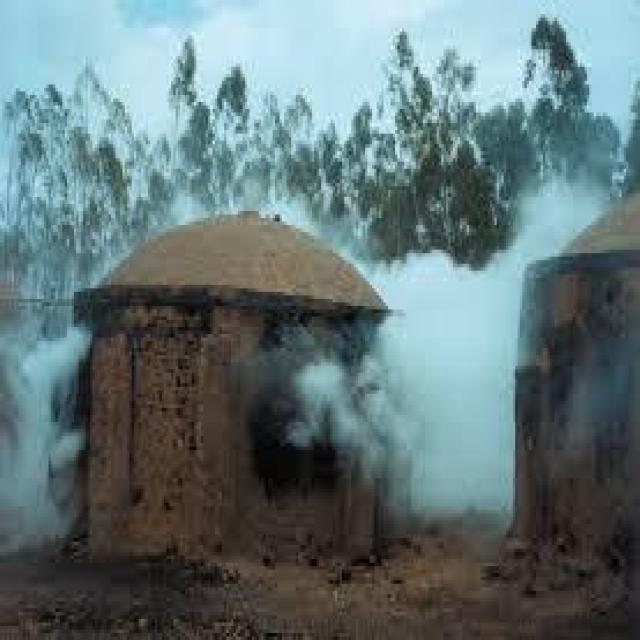Smoke: (303, 182, 616, 523), (8, 283, 96, 555)
